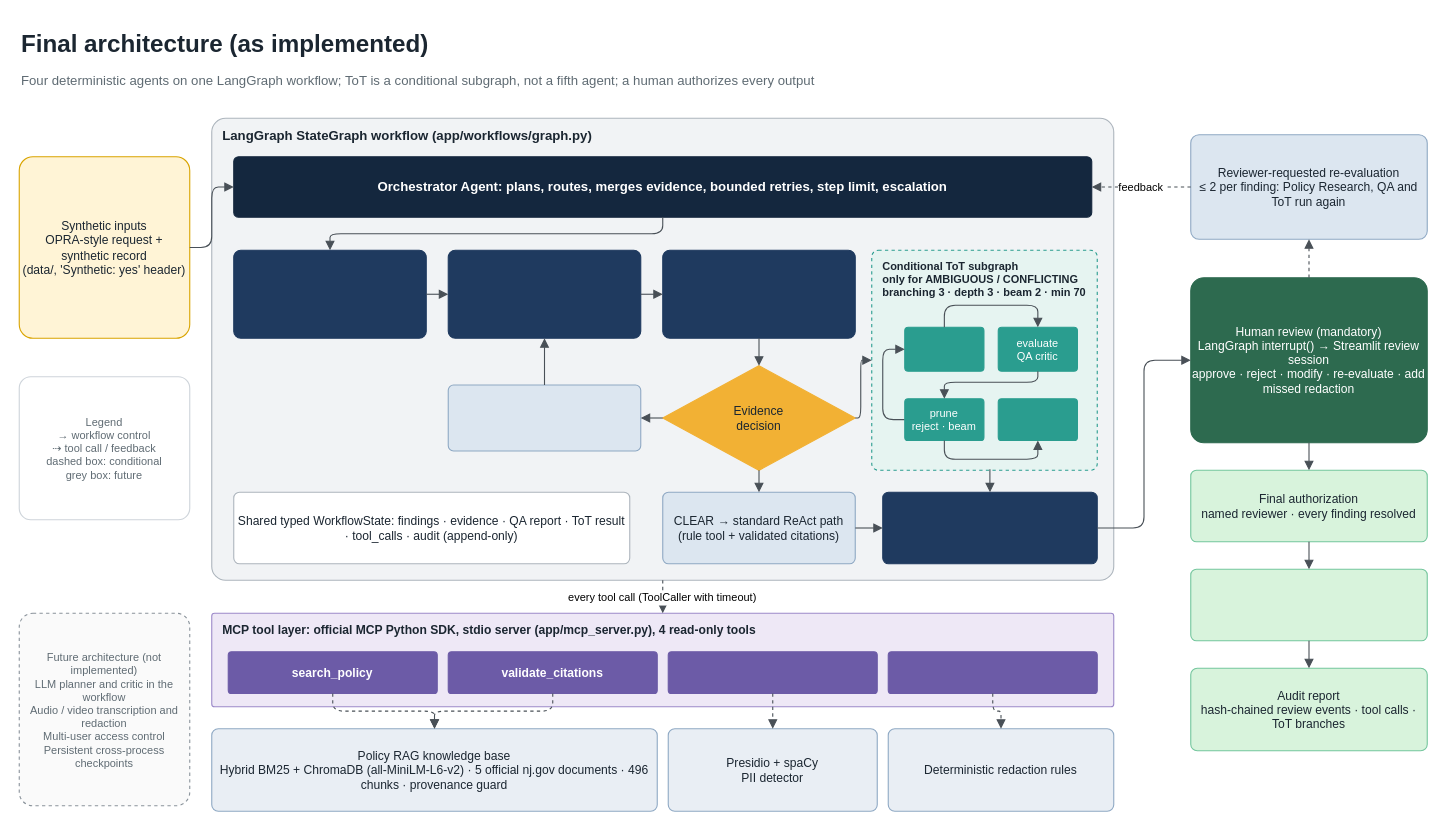
Image size: 1447x831. Some labels were removed from this diagram. Here are the shapes that lost their labels. From the top down, the box of each, then its label:
(233, 249, 426, 338): Record Analysis Agent detect_pii · ≤ 2 attempts
(447, 249, 641, 338): Policy Research Agent search_policy · ≤ 2 queries per category
(662, 249, 855, 338): Compliance & QA Agent propose_redactions · validate_citations · missed-PII sweep
(904, 326, 984, 371): generate
(447, 384, 641, 451): MISSING → one targeted retrieval, then re-check
(997, 398, 1077, 441): select or escalate
(882, 491, 1097, 564): Finalize recommendations
(1190, 568, 1427, 641): Deterministic span redaction derivative in outputs/ · original unchanged
(667, 651, 877, 694): detect_pii
(887, 651, 1097, 694): propose_redactions
